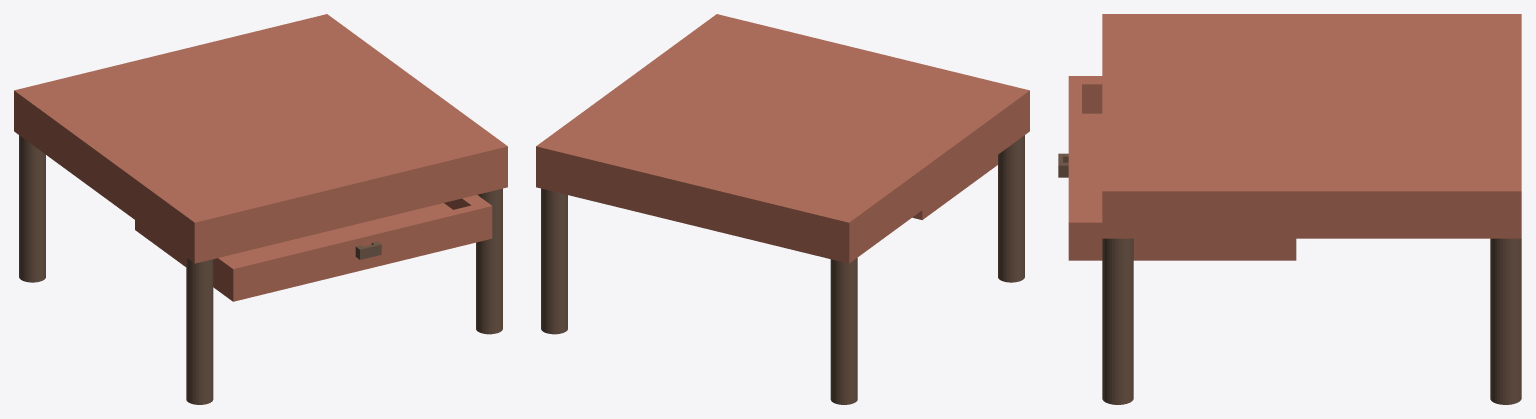
The model's file is table.glb.
3 views of the same model, side by side, from view 1: azimuth 30°, elevation 25°; view 2: azimuth 150°, elevation 25°; view 3: azimuth 270°, elevation 25° (orthographic). The views are drawn at different scales.
Parts seen in each view (by area): view 1: Cube, Cube.001, Cylinder, Cylinder.003, Cylinder.002; view 2: Cube, Cylinder.003, Cylinder.001, Cylinder, Cube.001; view 3: Cube, Cube.001, Cylinder.001, Cylinder.002.
Part boxes in pixels (<box>): Cube: <box>14,14,507,263</box>; Cube.001: <box>135,195,492,301</box>; Cylinder: <box>186,258,213,404</box>; Cylinder.003: <box>19,135,45,282</box>; Cylinder.002: <box>476,188,502,334</box>; Cube: <box>536,14,1029,263</box>; Cylinder.003: <box>830,258,857,404</box>; Cylinder.001: <box>541,188,567,334</box>; Cylinder: <box>998,135,1024,282</box>; Cube.001: <box>912,155,997,219</box>; Cube: <box>1102,14,1521,238</box>; Cube.001: <box>1068,76,1296,260</box>; Cylinder.001: <box>1490,238,1521,404</box>; Cylinder.002: <box>1102,238,1133,404</box>.
Bounding box in the file's own units: 8 × 4.5 × 8.84.
